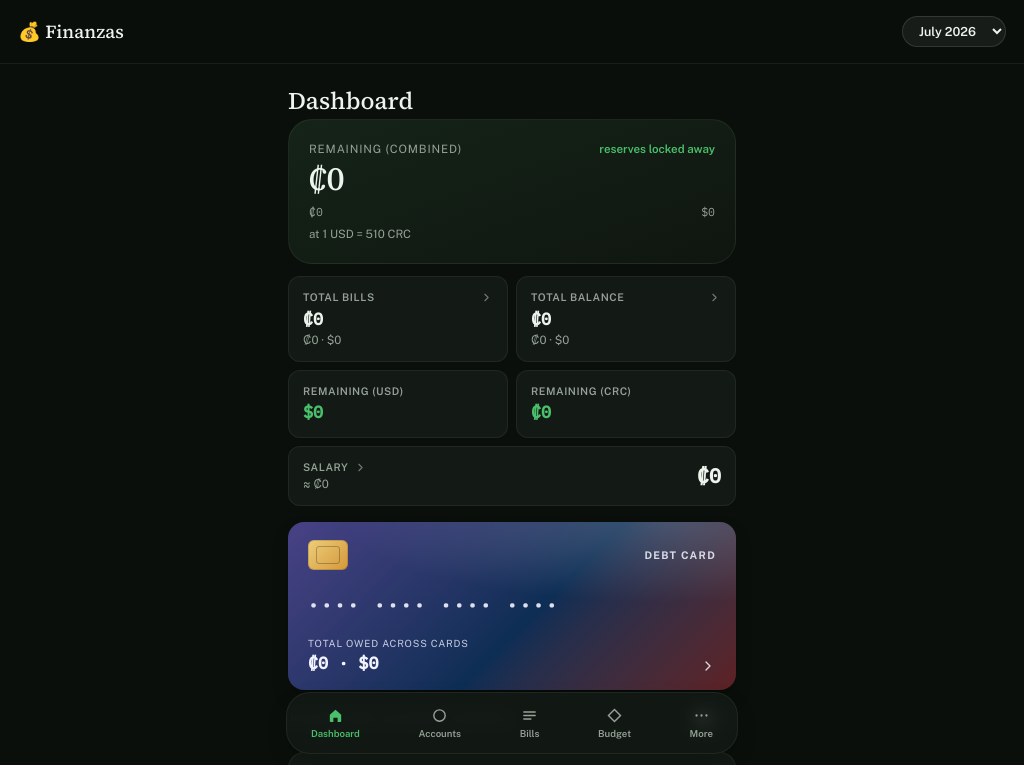
Test: Settings › changes the primary display currency
Click the button "More": (701, 723) x1=684 y1=703 x2=719 y2=743
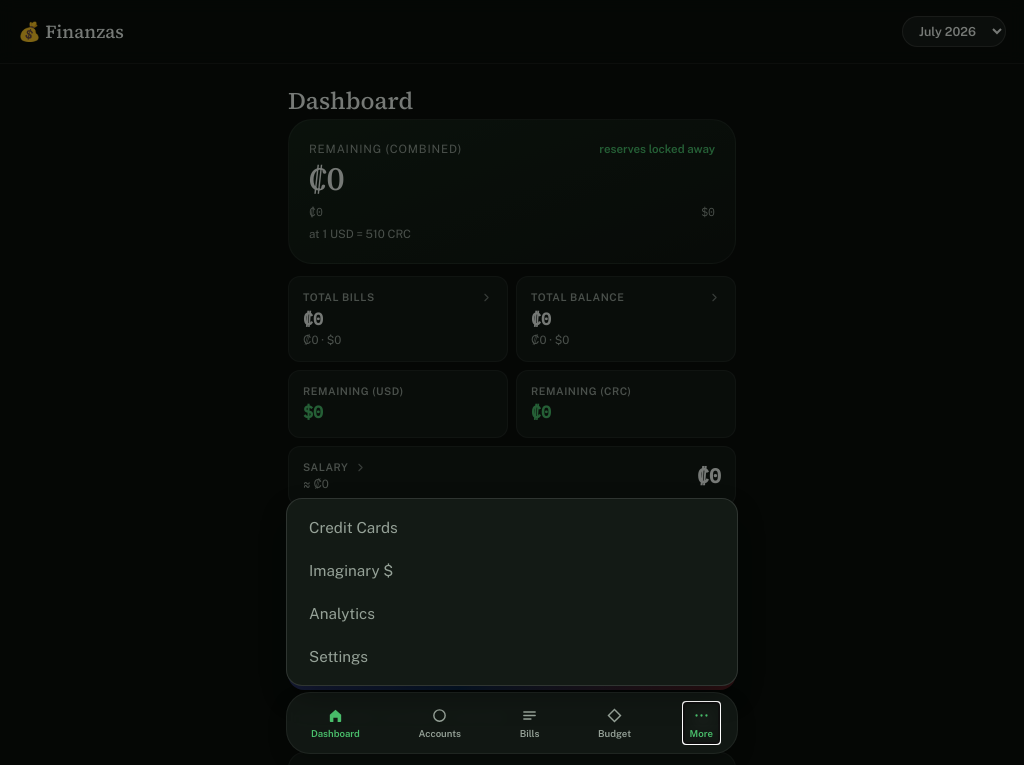
Click the button "Settings": (338, 656) x1=295 y1=636 x2=729 y2=677
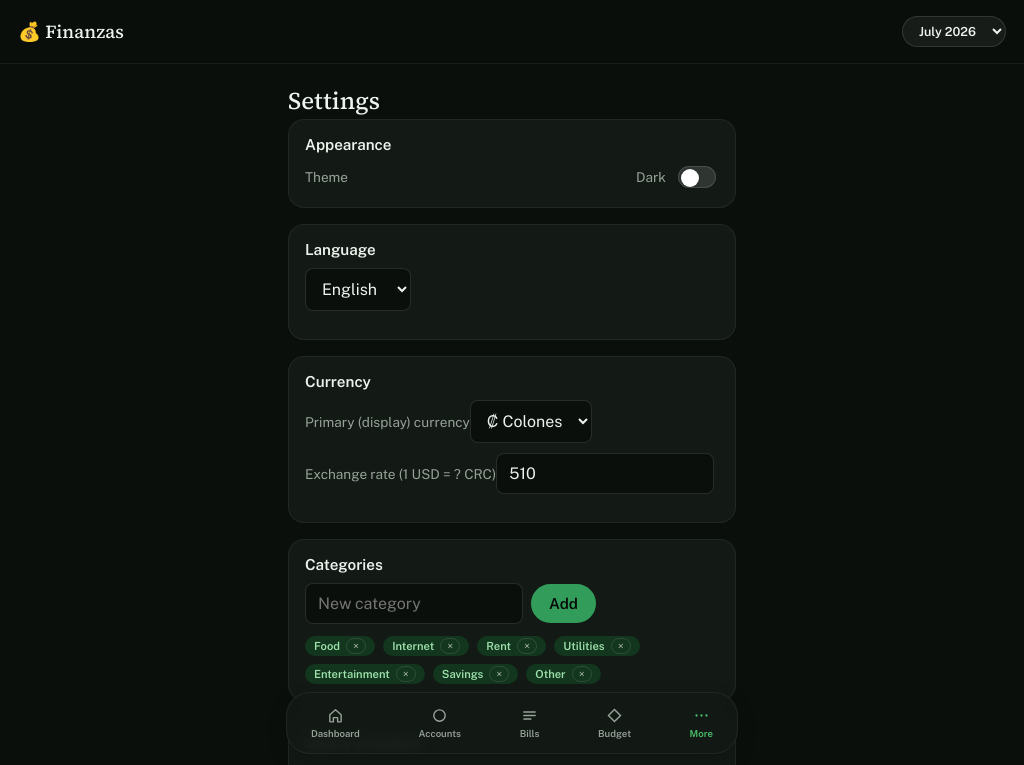
Select "$ Dollars" in the dropdown showing "₡ Colones" next to "Primary (display) currency": (531, 422) x1=470 y1=400 x2=592 y2=443
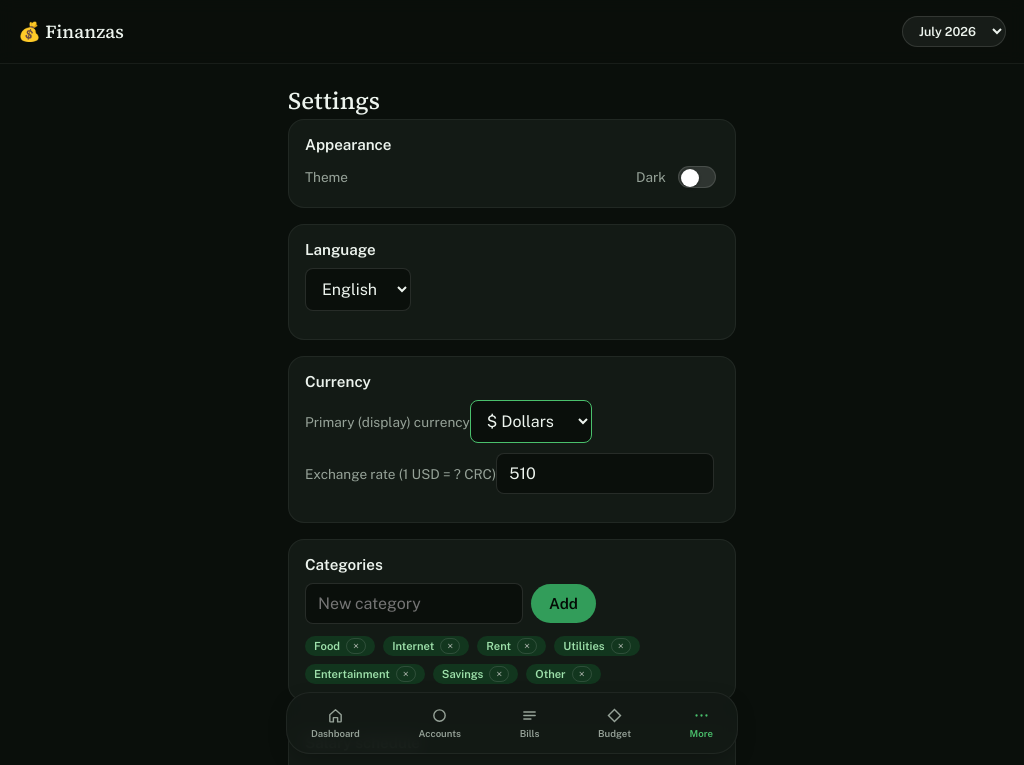
Click the button "Accounts": (440, 723) x1=412 y1=703 x2=467 y2=743
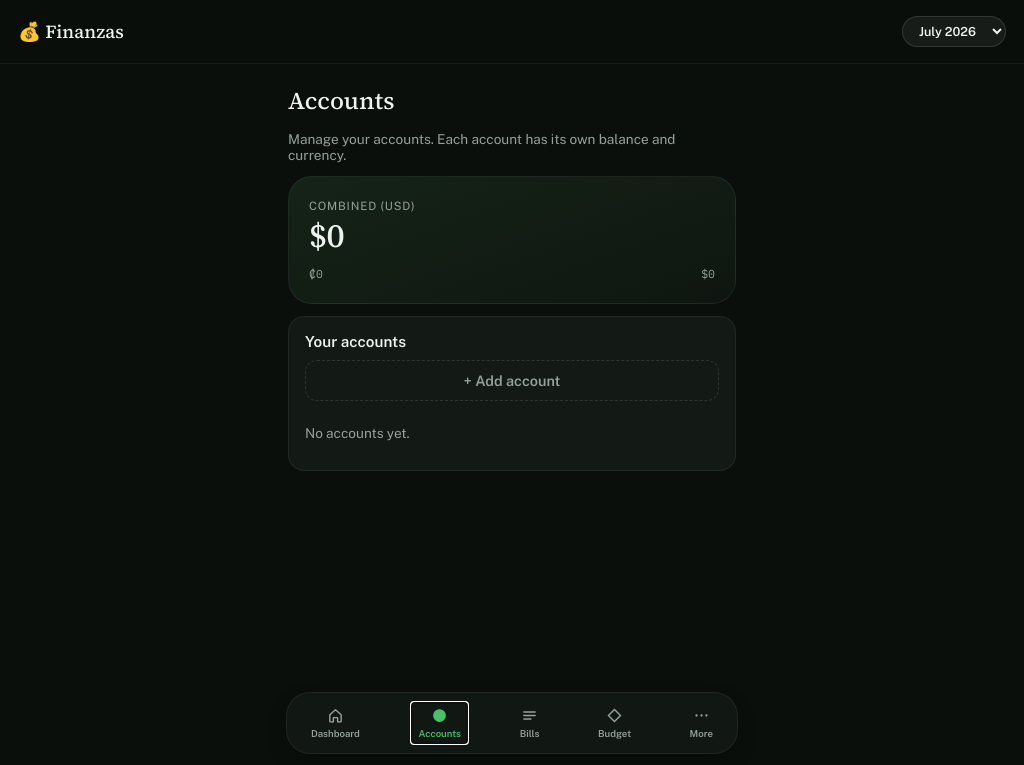
expect the text "Combined (USD)" is shown: met, box x1=309 y1=199 x2=415 y2=213
